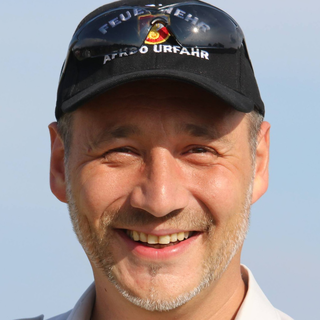eye: (173, 138, 227, 166), (96, 139, 147, 167)
